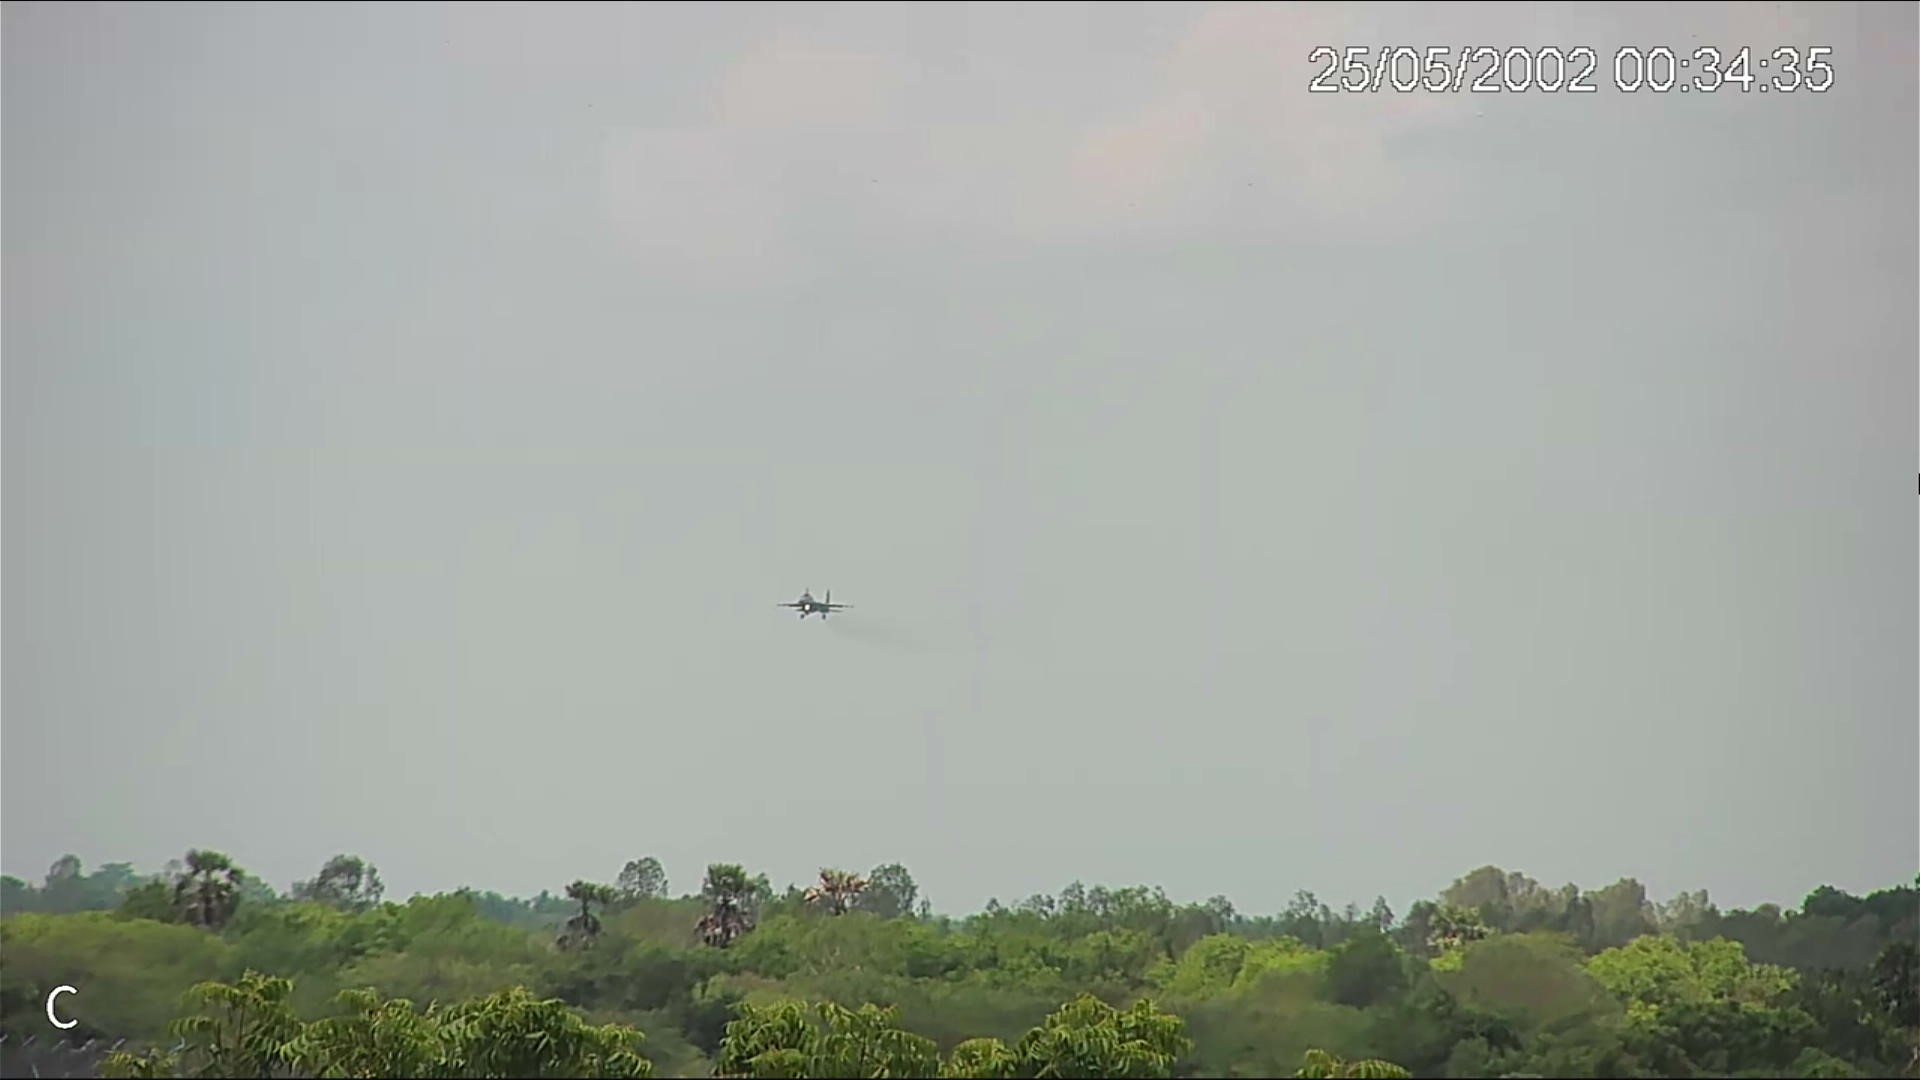SU_30: (775, 587, 851, 618)
